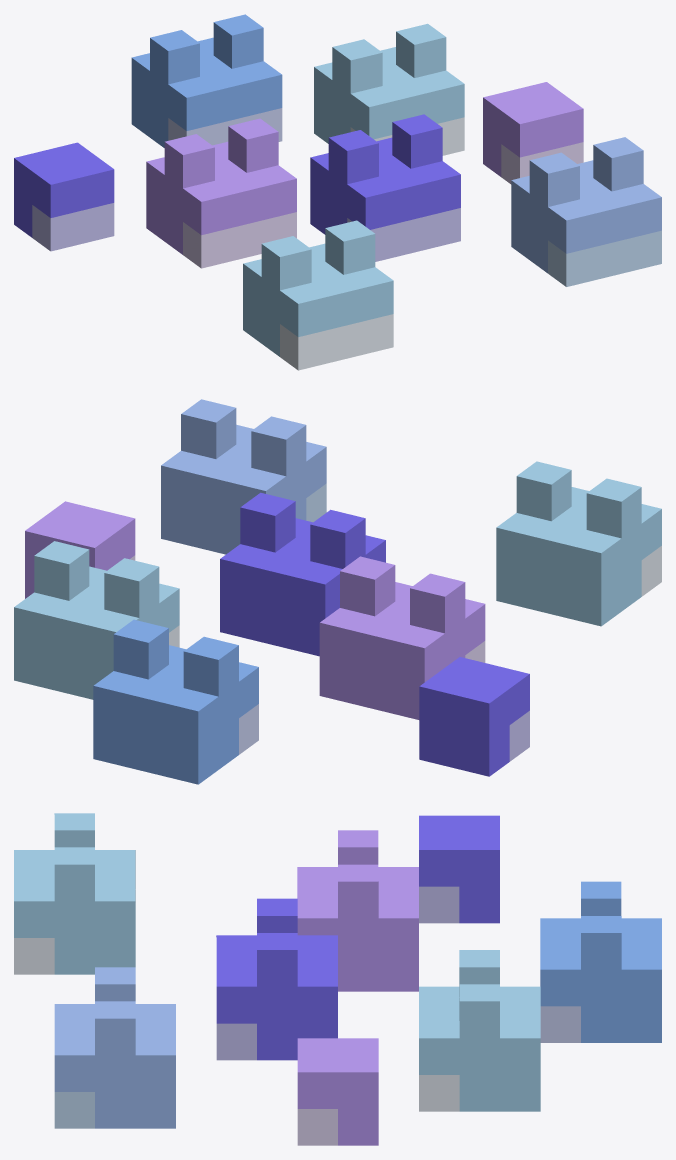
Rendered from Horda.fbx.
3 renders of one model, top to bottom at view 1: azimuth 30°, elevation 25°; view 2: azimuth 150°, elevation 25°; view 3: azimuth 270°, elevation 25°, orthographic. The views are drawn at different scales.
Visible parts, largest first — view 1: Horda; view 2: Horda; view 3: Horda.
Part boxes in pixels (x1=…): Horda: x1=14, y1=14, x2=661, y2=370; Horda: x1=14, y1=399, x2=661, y2=784; Horda: x1=14, y1=813, x2=661, y2=1145.
Size of the model in its own units: 150 by 30 by 160.
